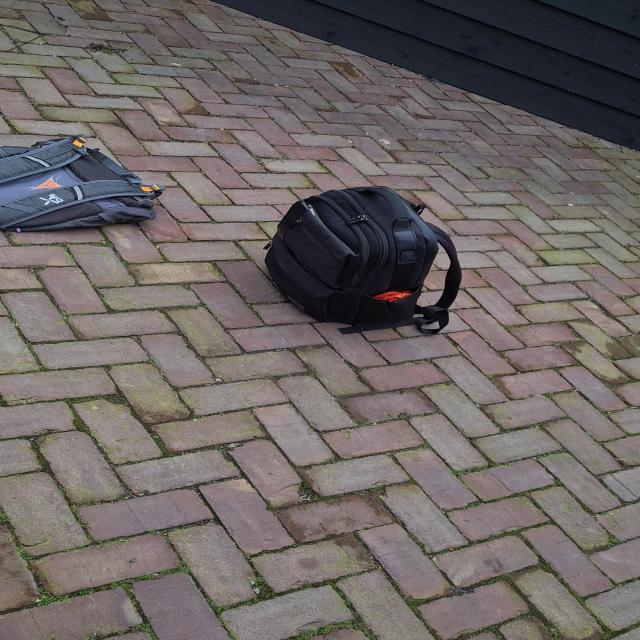backpack: (251, 180, 456, 330), (0, 134, 169, 233)
